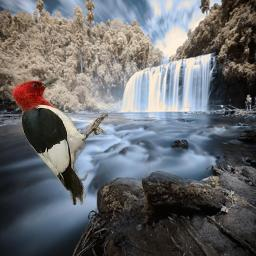Woodpecker: (10, 75, 108, 205)
